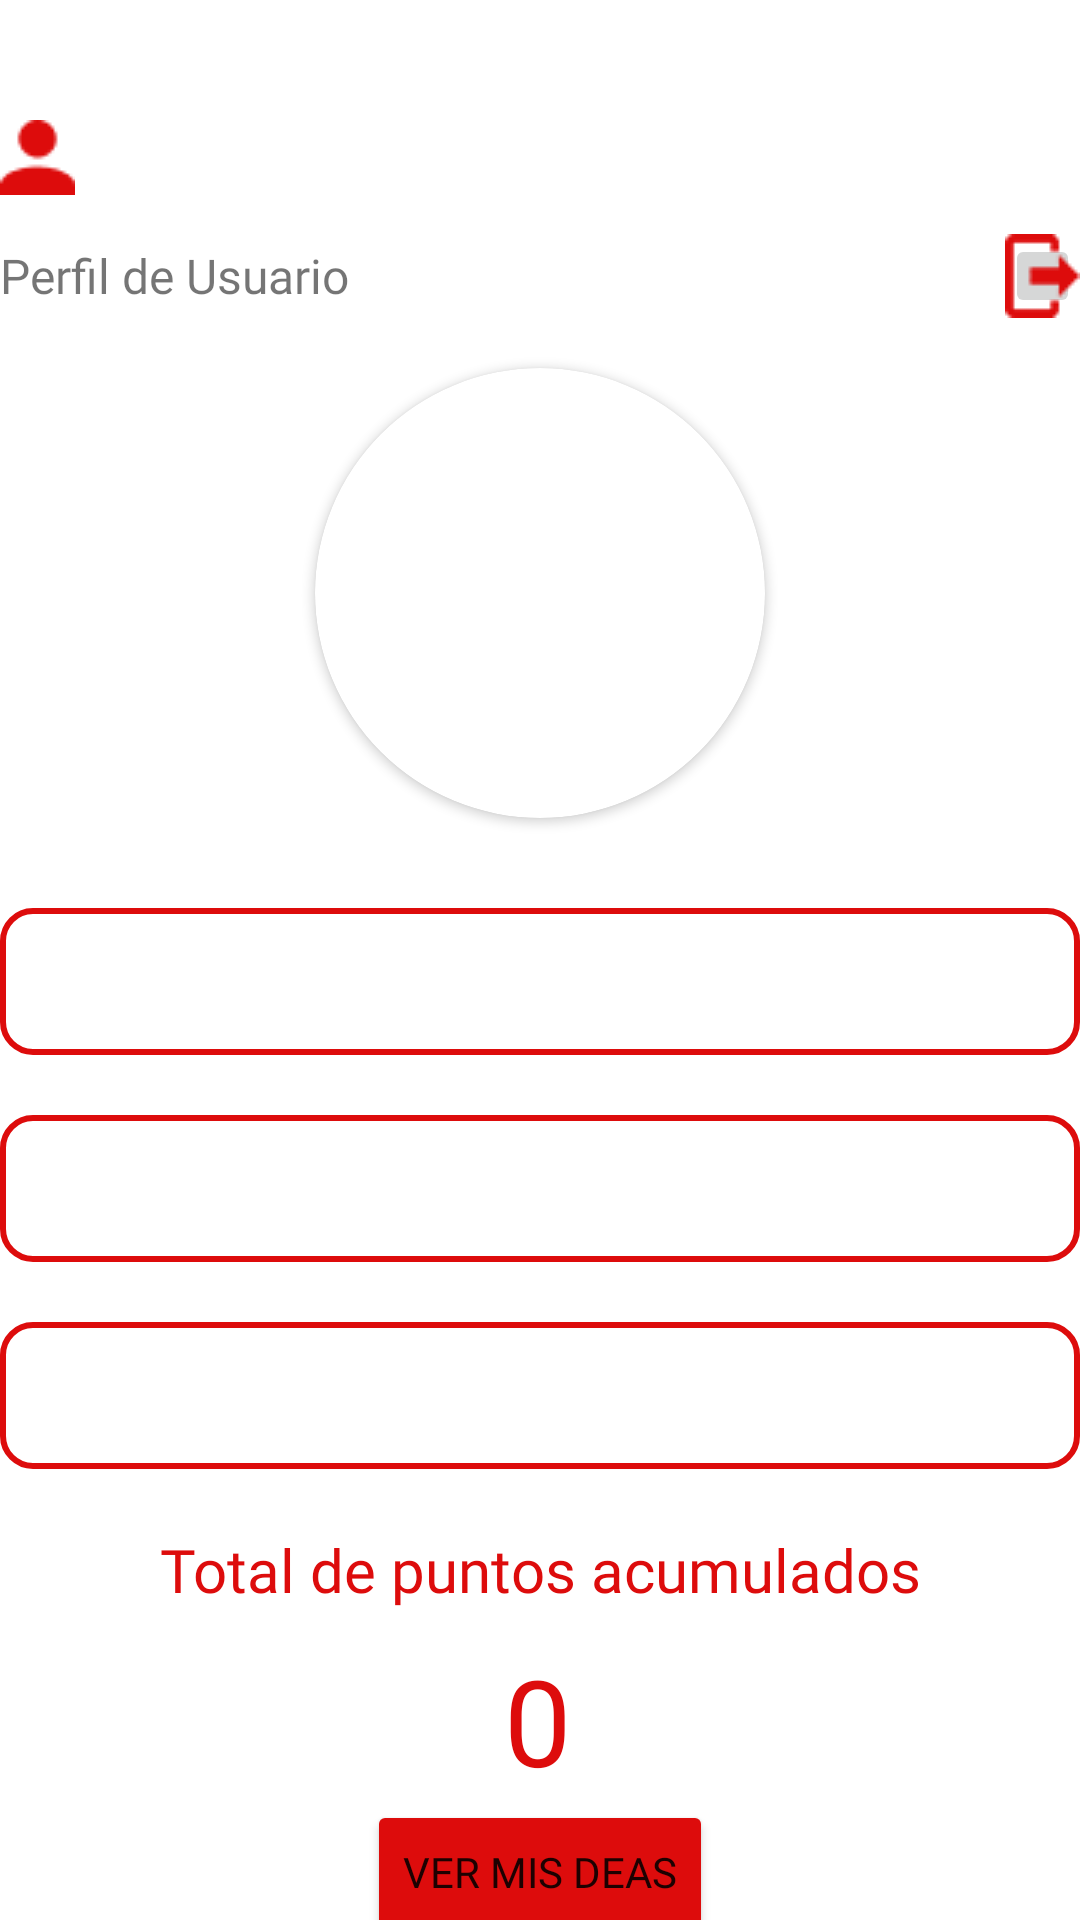

Icon bounding boxes for this 1080 × 1920 phone screenshot, format bbox=[x1, y1, x2, y2]:
user: bbox=[0, 120, 75, 195]
